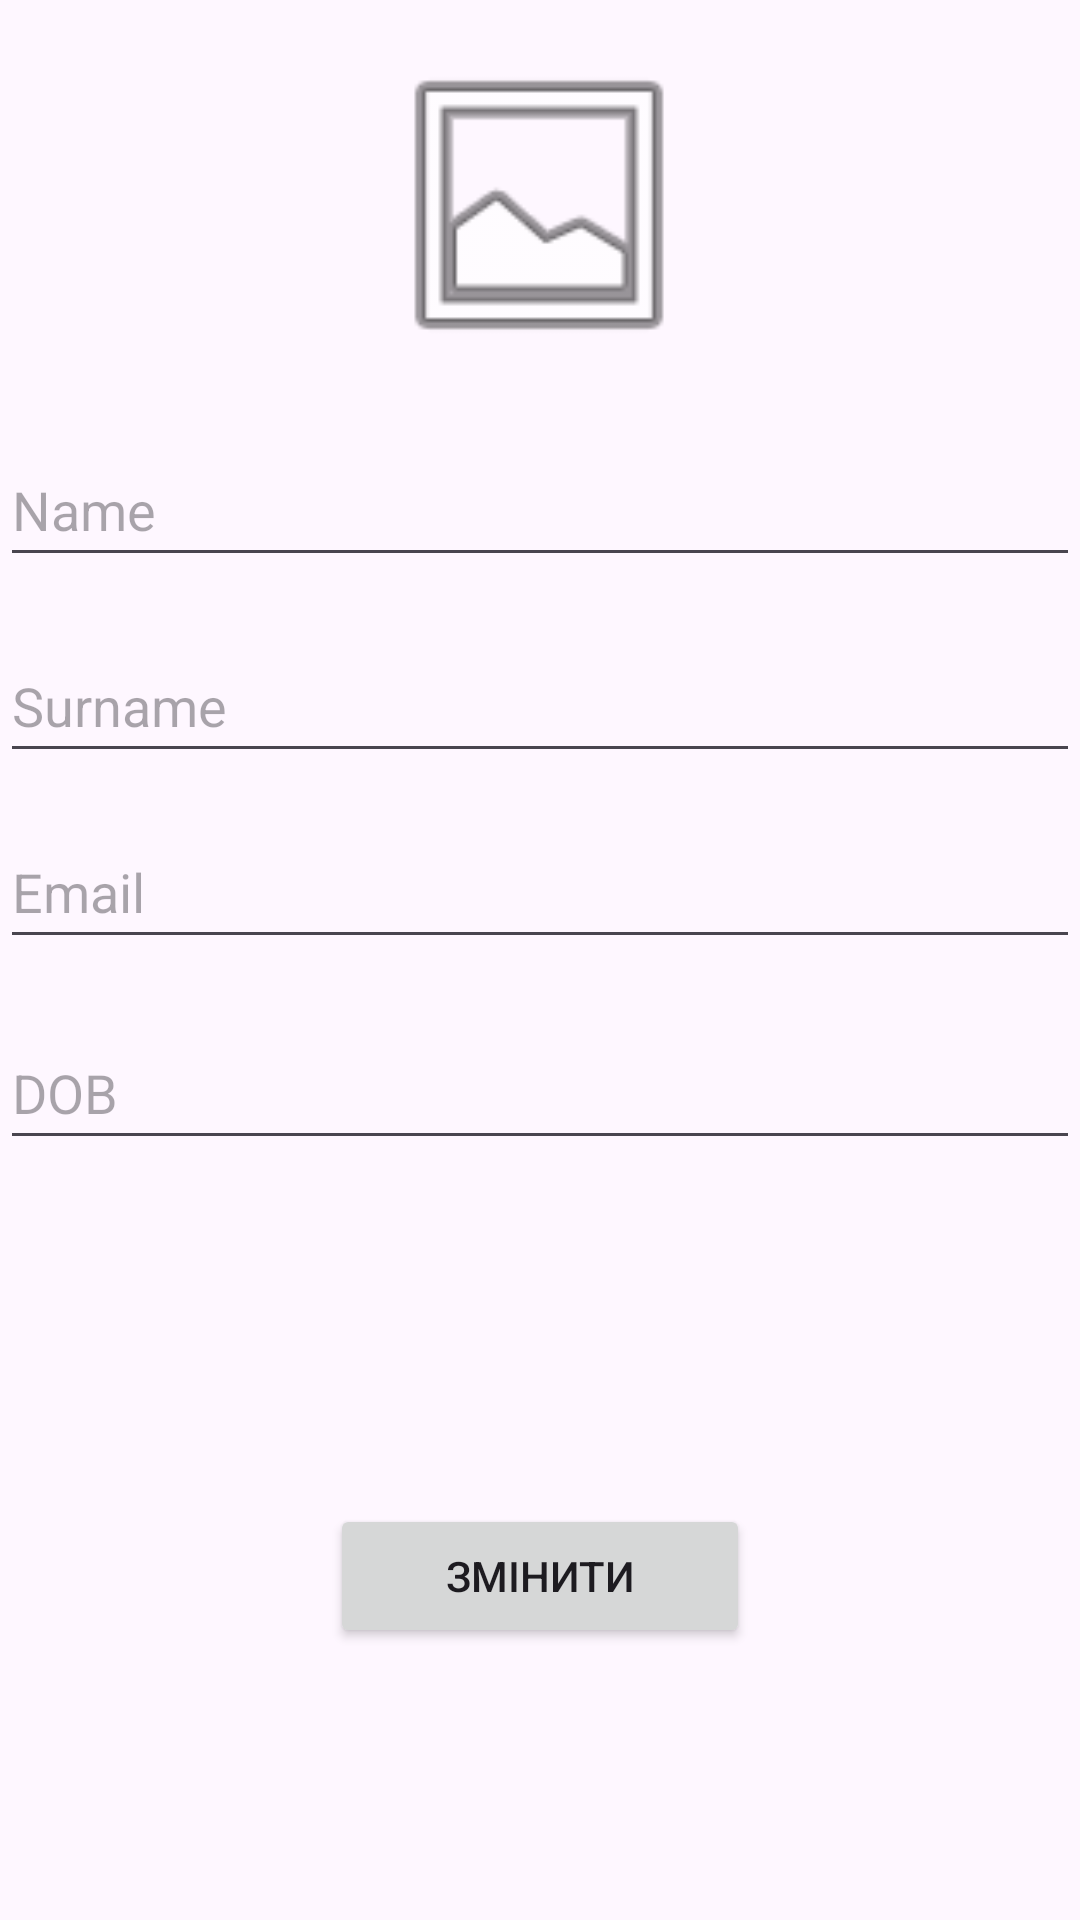

Named icons in this screenshot (1080 x 1920) and their centers, [x,y]:
gallery: [539,205]
